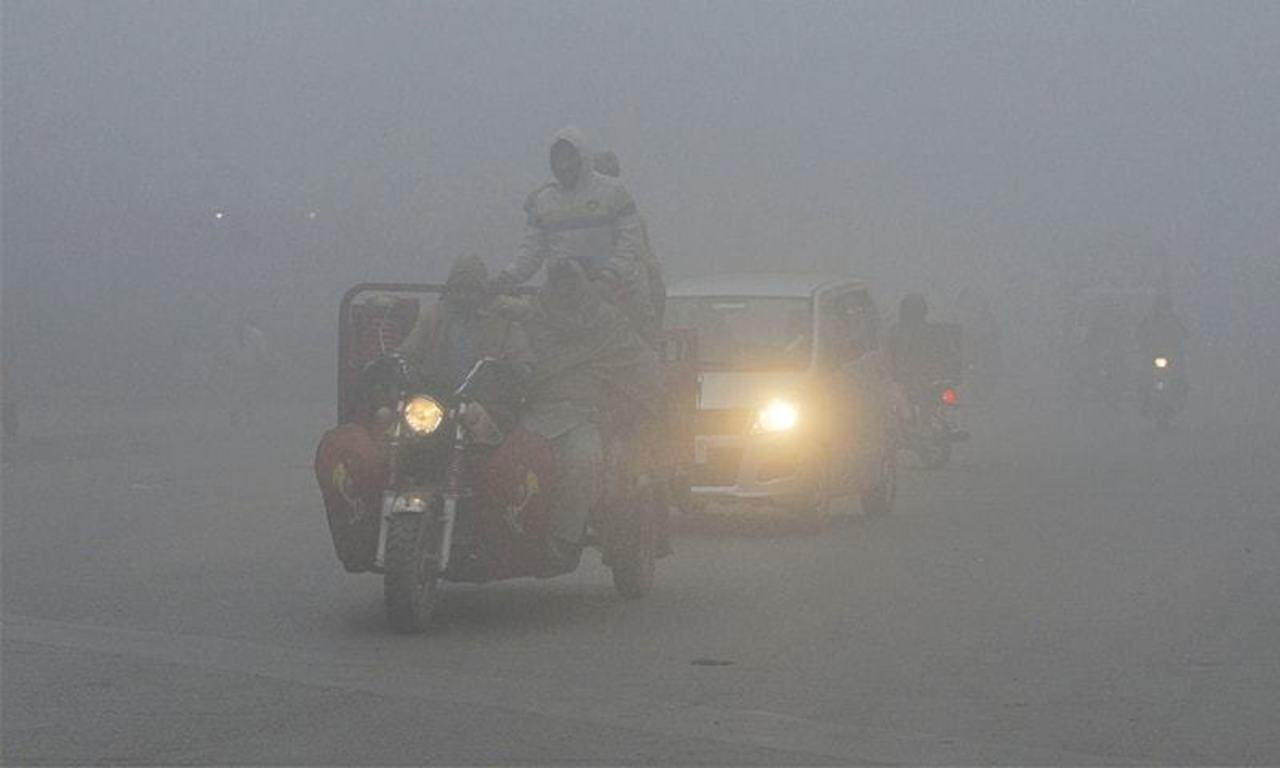car: (656, 275, 889, 528)
motorcycle: (335, 271, 659, 622), (893, 322, 971, 468), (1134, 339, 1193, 427)
person: (517, 122, 650, 502), (384, 253, 510, 582), (518, 256, 627, 565), (888, 287, 946, 454), (1140, 290, 1195, 391)
